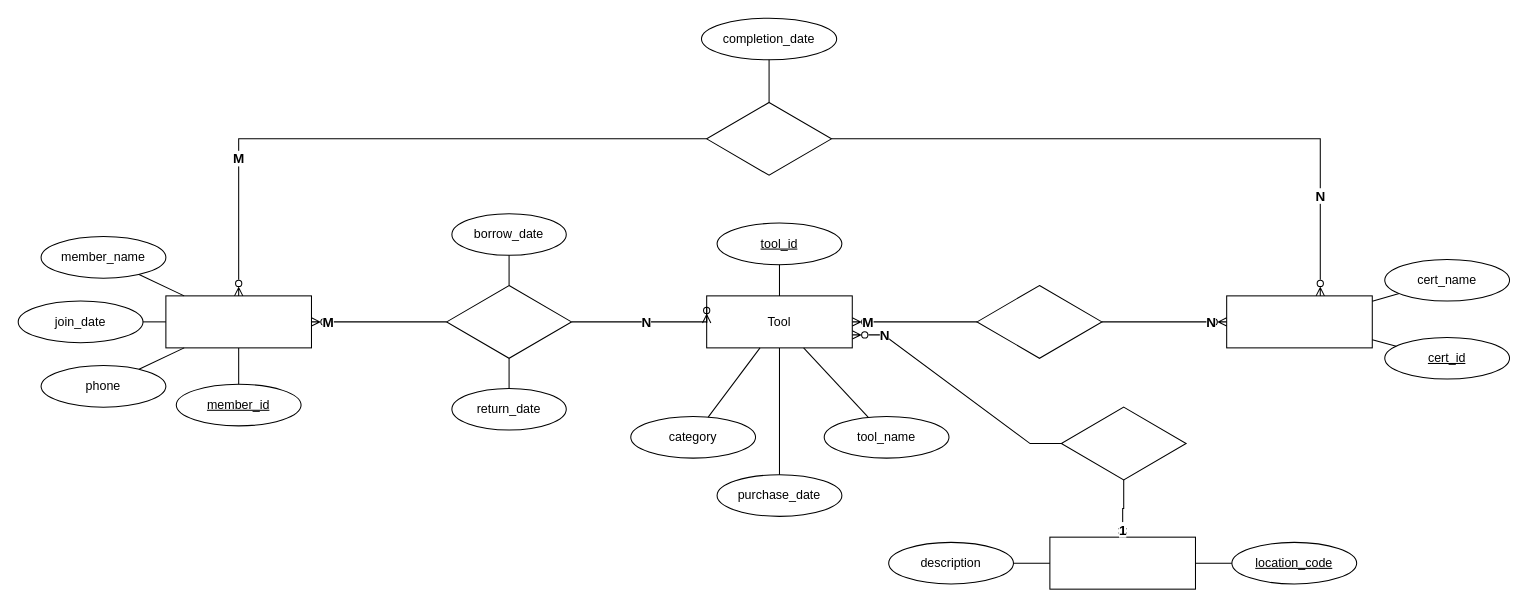
Some shapes in this 1528 by 607 pixel diagram are drawn without their labels. The centre of each missing label's shape, as x and y in pixels:
borrows: pixel 508 321
Certification: pixel 1299 321
completes: pixel 768 138
is stored in: pixel 1123 443
Member: pixel 238 321
requires: pixel 1039 321
Storage Location: pixel 1122 562
